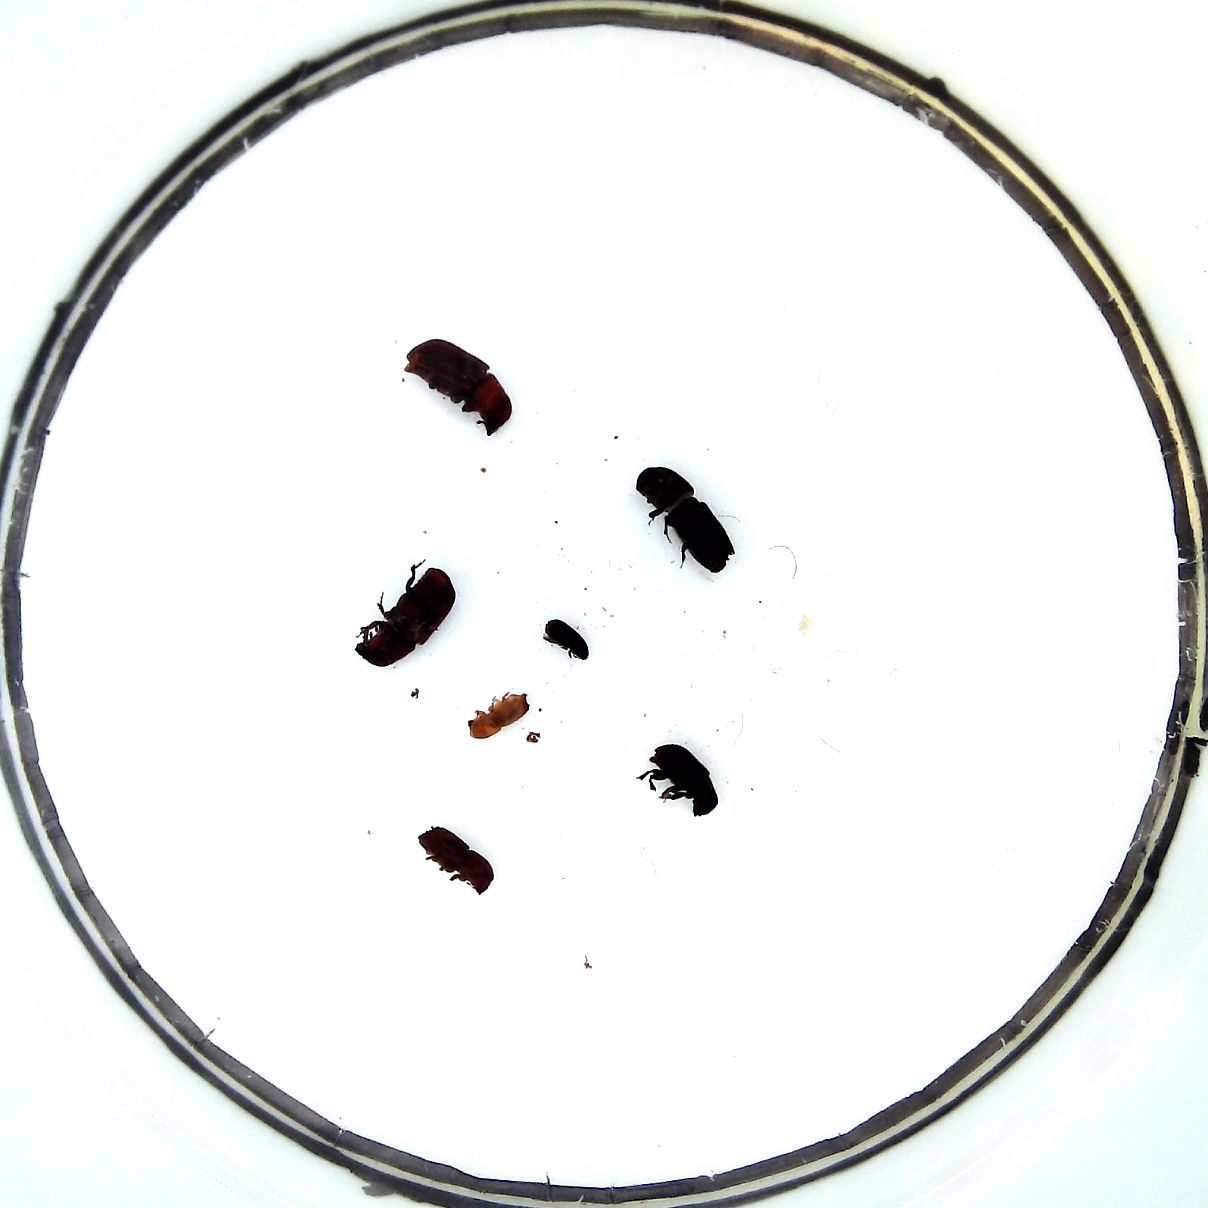Boerner: (636, 466, 736, 575)
Leconte: (404, 339, 513, 437), (355, 567, 455, 667)
acuminatus: (543, 618, 589, 662)
armandi: (650, 743, 719, 818)
coleoptera: (467, 694, 529, 738)
linnaeus: (418, 826, 494, 896)
